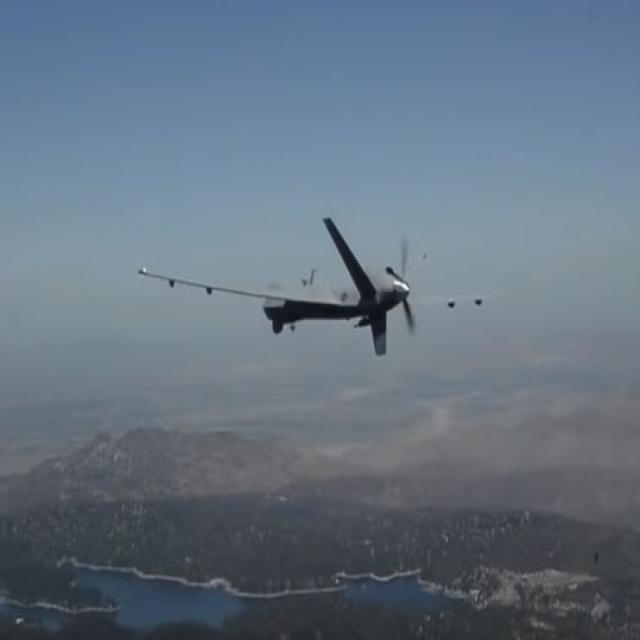iha: (138, 214, 490, 359)
